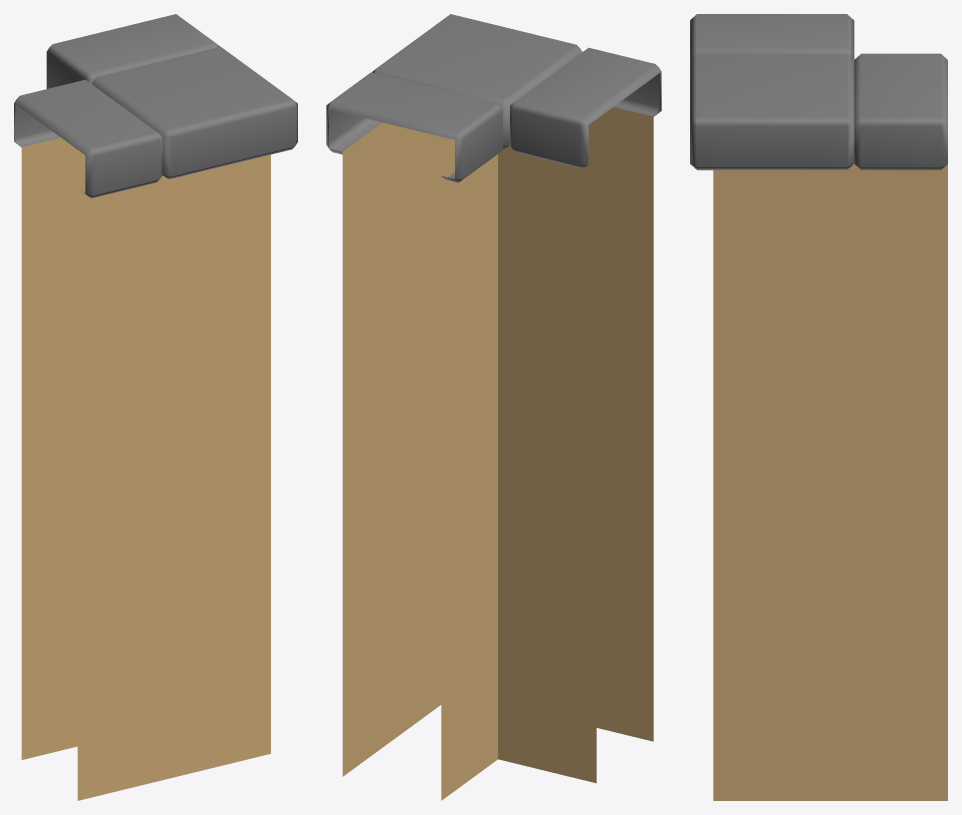
File: SM_WallCorner_6_LOD0.fbx
3 views of the same model, side by side, from view 1: azimuth 30°, elevation 25°; view 2: azimuth 150°, elevation 25°; view 3: azimuth 270°, elevation 25° (orthographic). The views are drawn at different scales.
Parts seen in each view (by area): view 1: SM_WallCorner_6_LOD0; view 2: SM_WallCorner_6_LOD0; view 3: SM_WallCorner_6_LOD0.
Part boxes in pixels (x1,y1,x2,y2): SM_WallCorner_6_LOD0: [14, 14, 297, 800]; SM_WallCorner_6_LOD0: [326, 14, 661, 800]; SM_WallCorner_6_LOD0: [690, 14, 947, 800].
Bounding box in the file's own units: 2.2 × 6.5 × 2.2.
